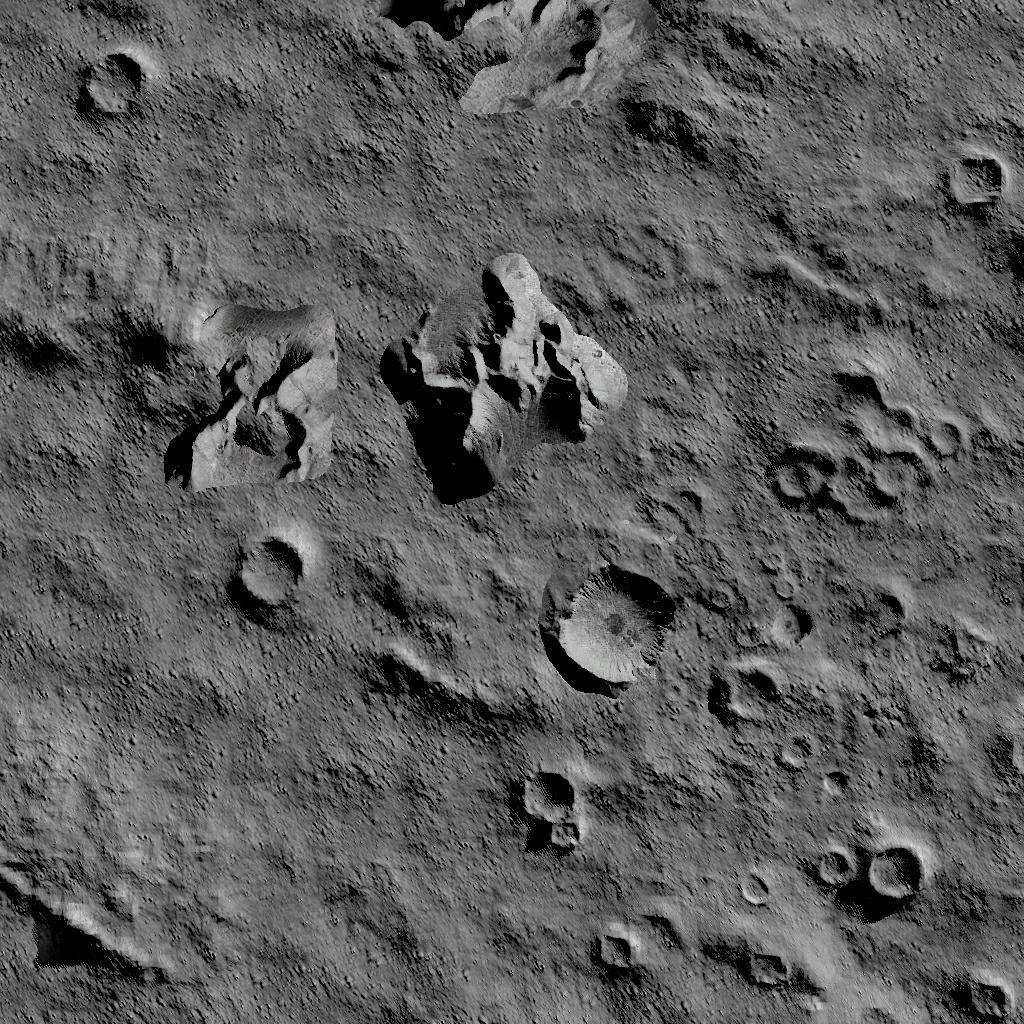Boulders: (0, 232, 339, 492), (372, 0, 794, 173), (379, 252, 633, 510), (0, 854, 171, 992), (357, 638, 521, 750), (336, 535, 460, 631), (68, 0, 188, 35)
Crater: (761, 350, 964, 534), (534, 558, 684, 702), (708, 600, 818, 733), (808, 828, 928, 918), (220, 523, 320, 629), (503, 762, 590, 860), (583, 910, 689, 984), (66, 50, 162, 128), (925, 146, 1009, 222), (933, 958, 1014, 1024), (933, 622, 1001, 692), (846, 580, 908, 644), (730, 932, 796, 992), (985, 712, 1024, 796)
Plan surface: (196, 758, 496, 1024), (2, 504, 186, 839), (203, 0, 342, 219), (823, 0, 1024, 122), (195, 646, 345, 751)
